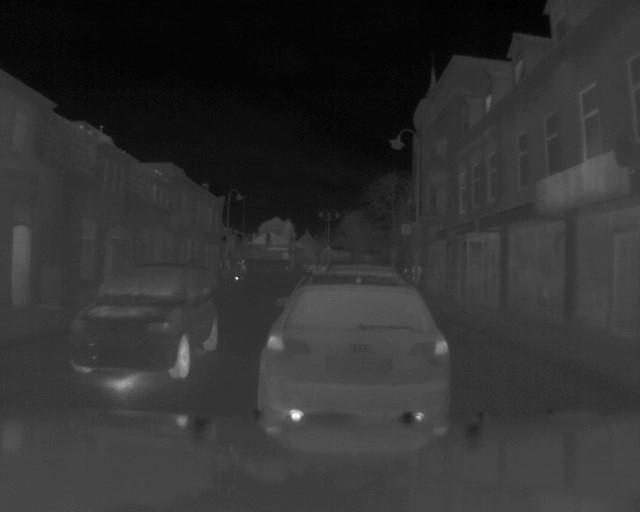car: (257, 273, 459, 441), (68, 261, 222, 382)
